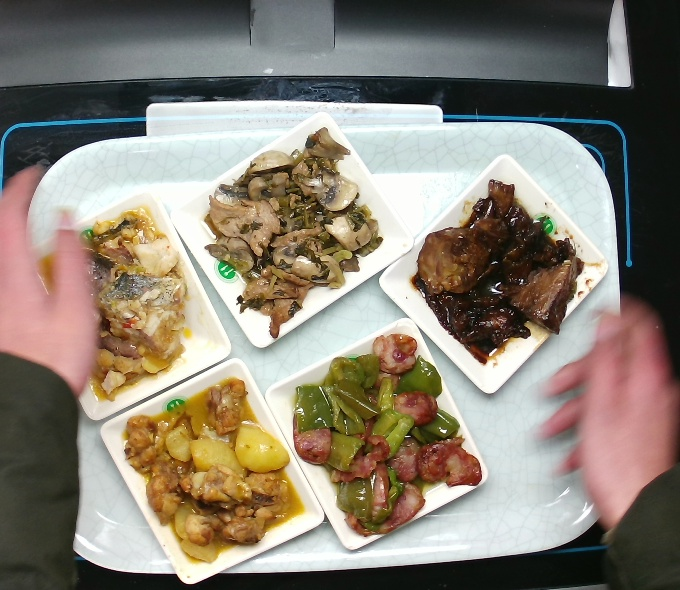wcq-JiangZhiYa: (410, 176, 585, 361)
wcq-MoGuRouPian: (204, 127, 386, 340)
wcq-QingJiaoXiangChang: (289, 331, 483, 539)
wcq-TuDouJiKuai: (123, 377, 304, 562)
